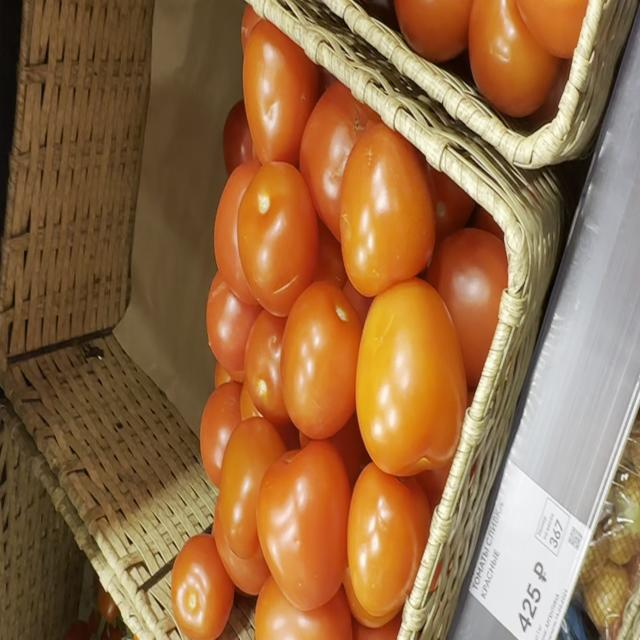tomato: (355, 278, 466, 476), (340, 124, 436, 296), (256, 439, 351, 611), (281, 280, 362, 439), (428, 227, 508, 387), (214, 417, 286, 594), (300, 82, 380, 240), (238, 161, 319, 317), (348, 463, 431, 615), (242, 20, 319, 165), (469, 0, 560, 117), (171, 534, 234, 640), (255, 576, 352, 640), (206, 271, 261, 381), (244, 309, 290, 424), (394, 0, 472, 62), (200, 382, 241, 488), (516, 0, 588, 60), (222, 99, 252, 175)
